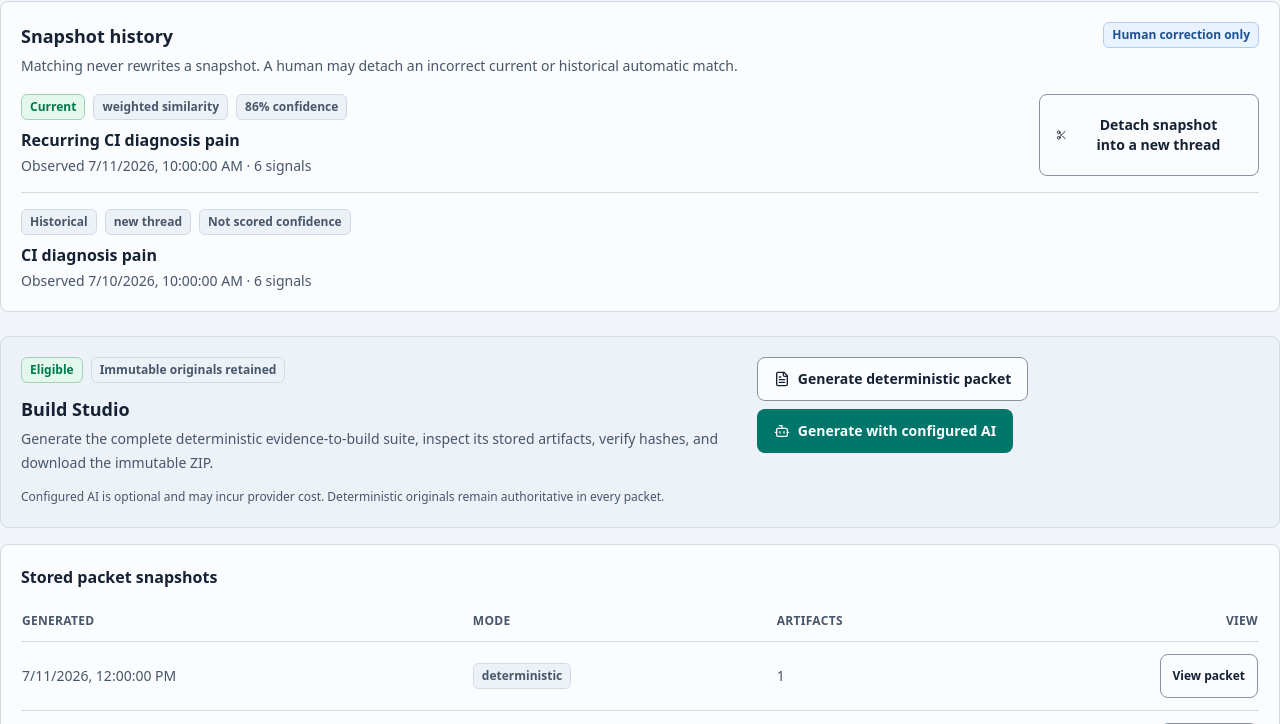
Test case: Opportunity threads › does not carry a verification result to another packet
(page scrolled)
Click the 1st button "View packet": [1209, 676] box [1160,654,1258,698]
(page scrolled)
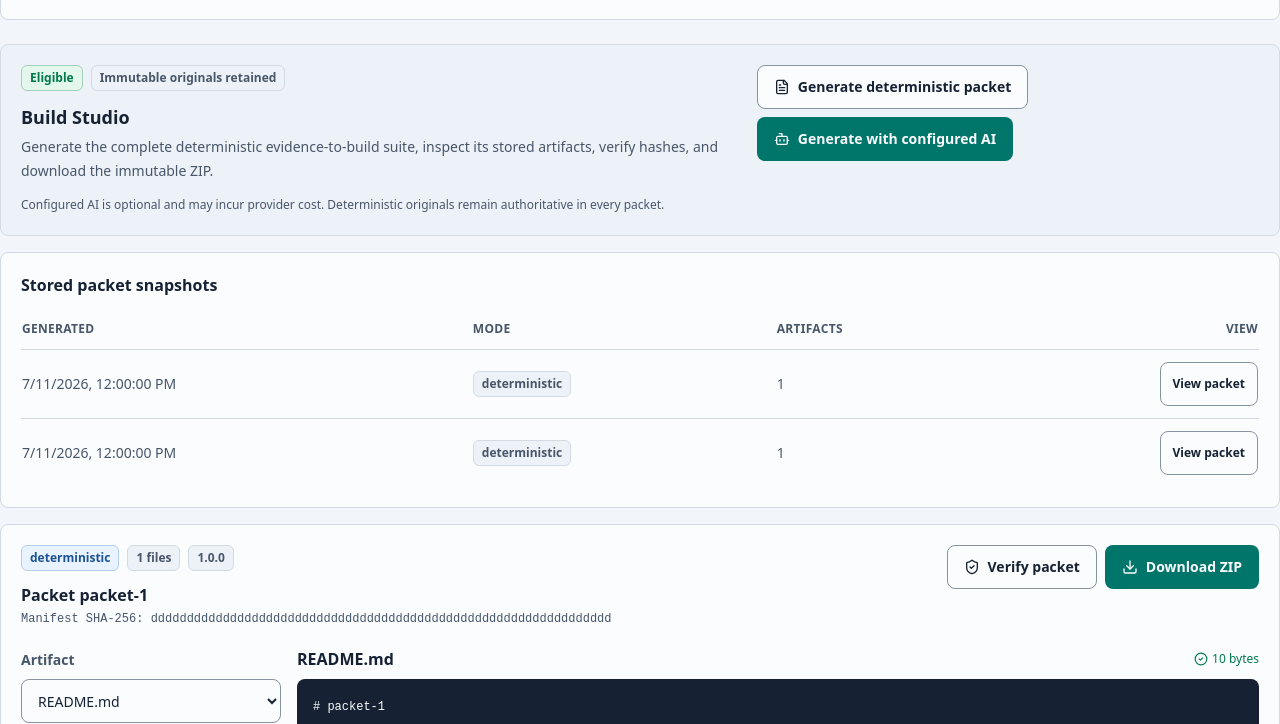
Result: the heading "Packet packet-1" is shown at [21,584,148,606]
Click the button "Verify packet": [1022, 567] box [946,545,1097,589]
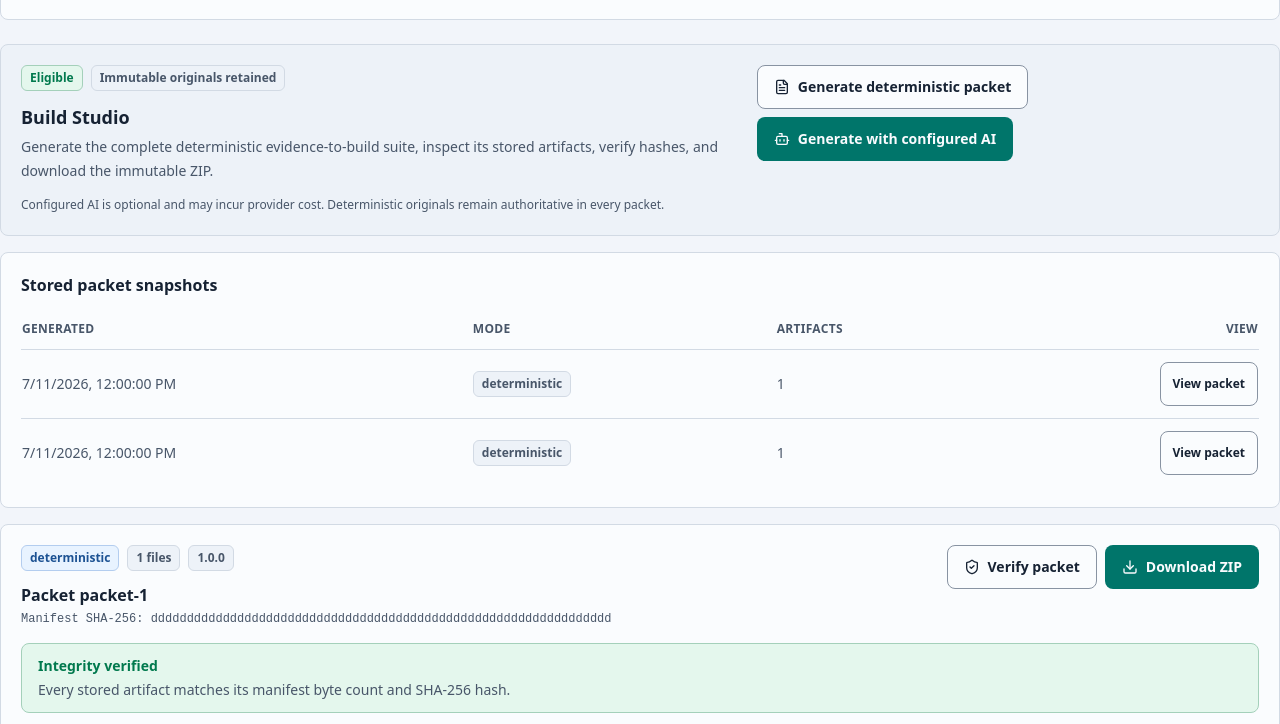
Result: the text "Integrity verified" is shown at [38,656,158,675]
Click the 2nd button "View packet": [1209, 453] box [1160,431,1258,475]
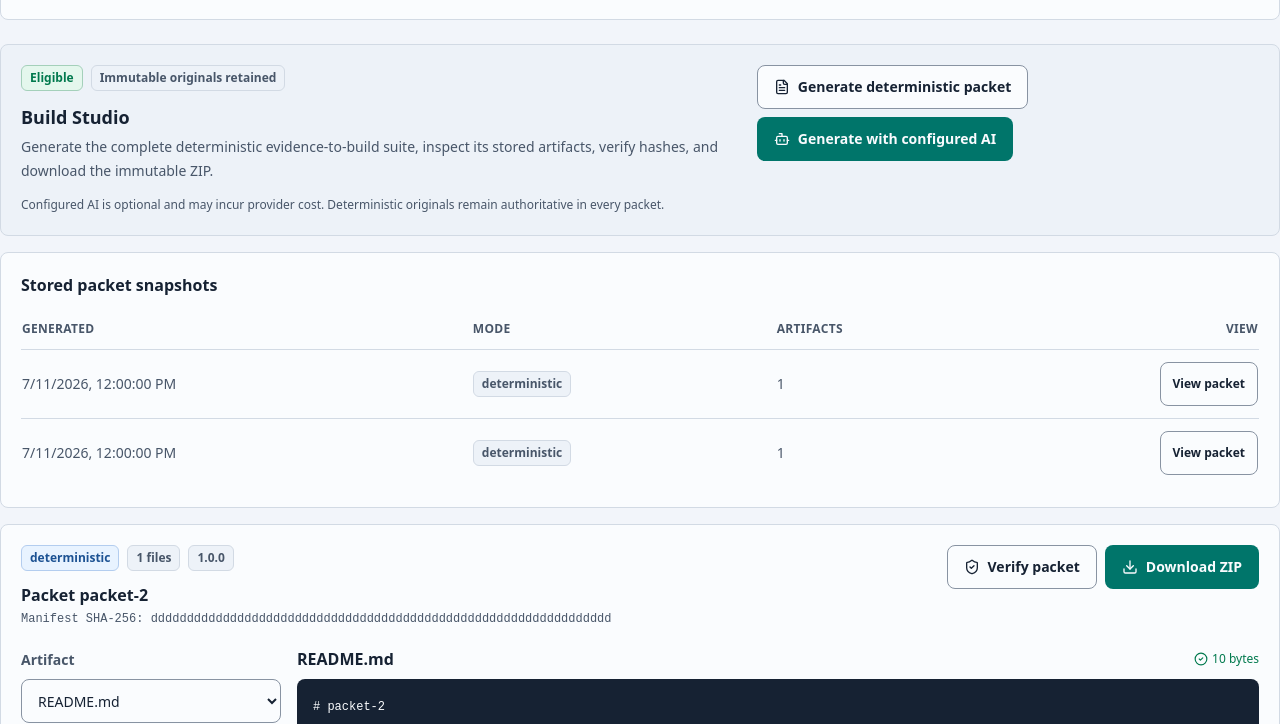
Result: the heading "Packet packet-2" is shown at [21,584,148,606]
Result: the text "Integrity verified" is gone
